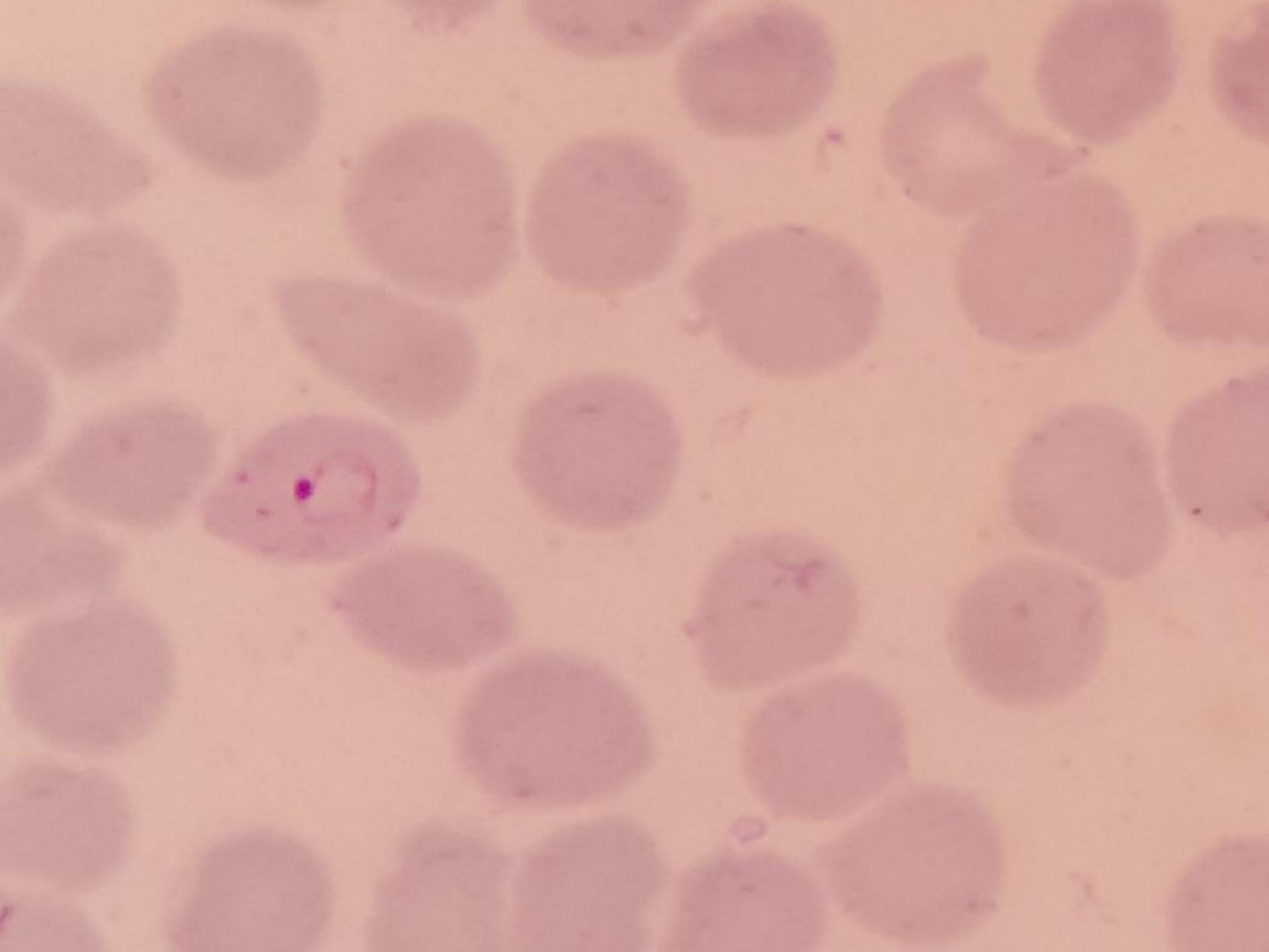Infected: (198, 418, 426, 566)
Uninfected: (952, 173, 1139, 353), (884, 53, 1093, 212), (452, 653, 653, 813), (345, 113, 517, 299), (1007, 400, 1173, 581), (275, 275, 481, 420), (822, 784, 1003, 949), (684, 530, 866, 688), (701, 220, 883, 376), (512, 372, 683, 532), (9, 600, 176, 758), (152, 28, 321, 182), (738, 674, 908, 824), (525, 132, 689, 287), (17, 225, 184, 375), (44, 398, 223, 535), (500, 814, 670, 951), (332, 544, 518, 669), (948, 561, 1106, 706), (5, 81, 155, 219), (167, 828, 334, 951), (681, 7, 835, 138), (367, 823, 523, 952), (1036, 0, 1173, 142), (3, 756, 137, 893), (1165, 368, 1268, 540), (668, 844, 831, 949), (2, 480, 128, 609), (1148, 213, 1266, 348)
